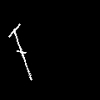double_crochet: (9, 24, 31, 79)
